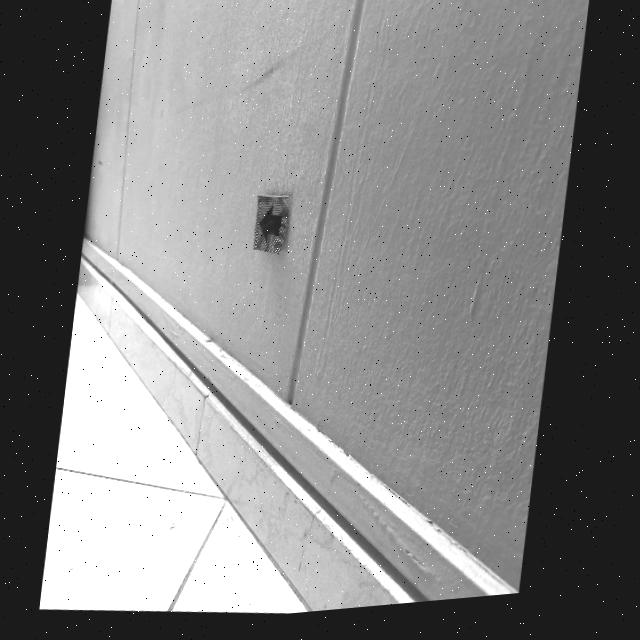LEFT: (259, 206, 283, 252)
